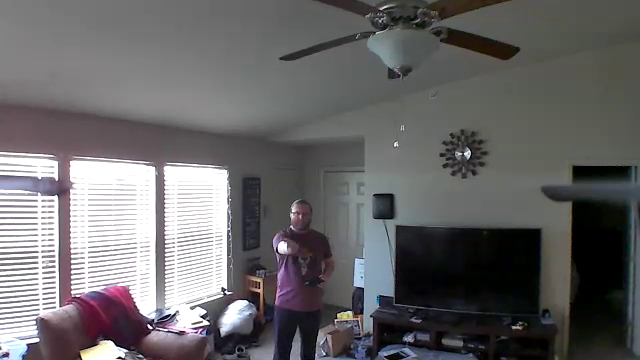land: (278, 238, 300, 254)
